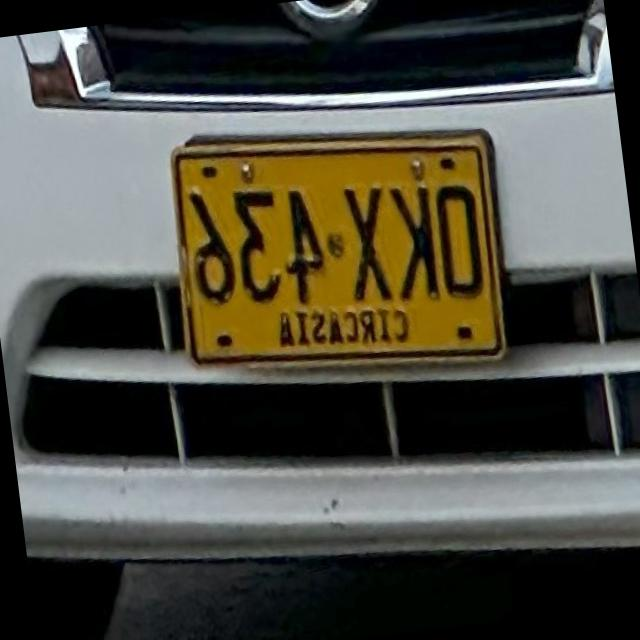number plate: (175, 129, 506, 357)
